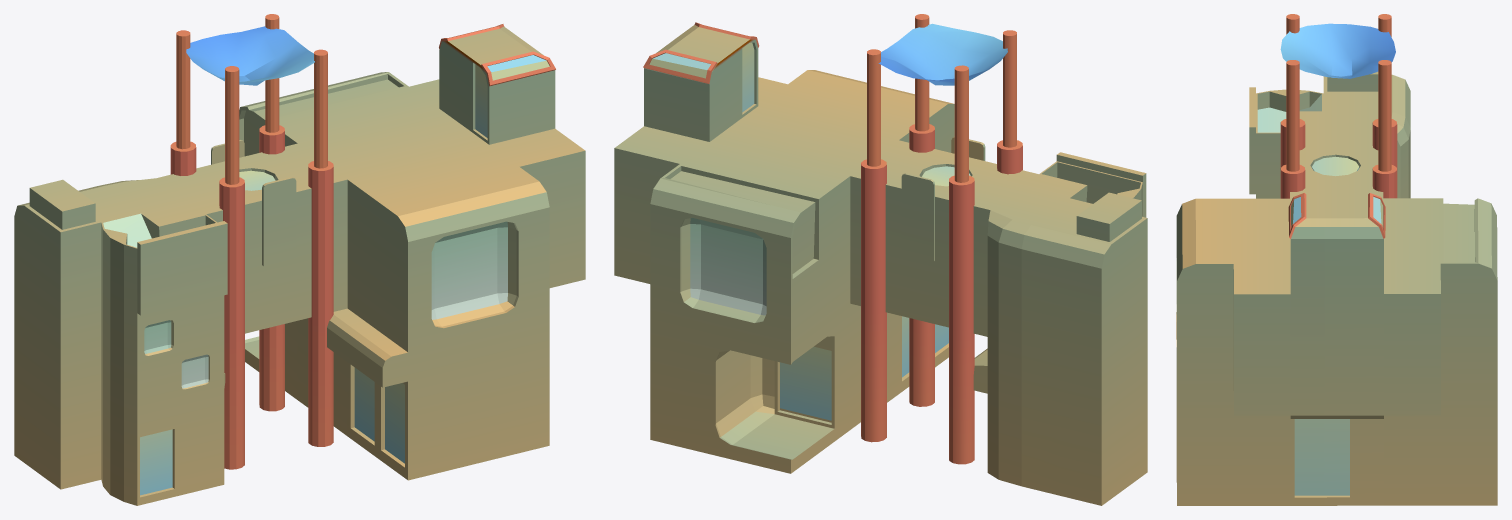
The model's file is SM_PrototypeBuilding_02.glb.
3 renders of one model, left to right at view 1: azimuth 30°, elevation 25°; view 2: azimuth 150°, elevation 25°; view 3: azimuth 270°, elevation 25°, orthographic. The views are drawn at different scales.
Parts seen in each view (by area): view 1: SM_Building_02; view 2: SM_Building_02; view 3: SM_Building_02.
Boxes of the visible parts, x1=… form: SM_Building_02: x1=14, y1=14, x2=585, y2=505; SM_Building_02: x1=614, y1=14, x2=1147, y2=505; SM_Building_02: x1=1176, y1=14, x2=1497, y2=505.
Bounding box in the file's own units: 12.75 × 10.08 × 7.88.
Materials: 1 (1 with a texture image).
